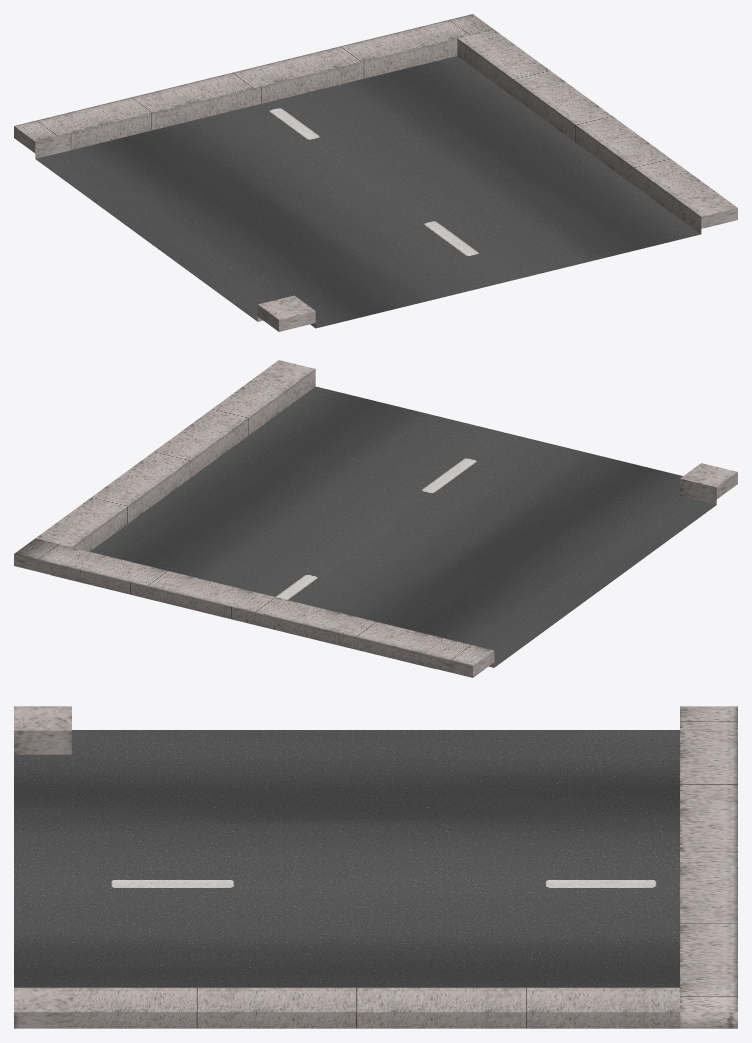
File: road segment E.FBX
3 renders of one model, top to bottom at view 1: azimuth 30°, elevation 25°; view 2: azimuth 150°, elevation 25°; view 3: azimuth 270°, elevation 25°, orthographic. The views are drawn at different scales.
Visible parts, largest first — view 1: Box001; view 2: Box001; view 3: Box001.
Part boxes in pixels (left/top/right/bottom): Box001: left=14, top=14, right=737, bottom=331; Box001: left=14, top=360, right=737, bottom=677; Box001: left=14, top=706, right=737, bottom=1028.
Size of the model in its own units: 24 by 0.8736 by 24.
